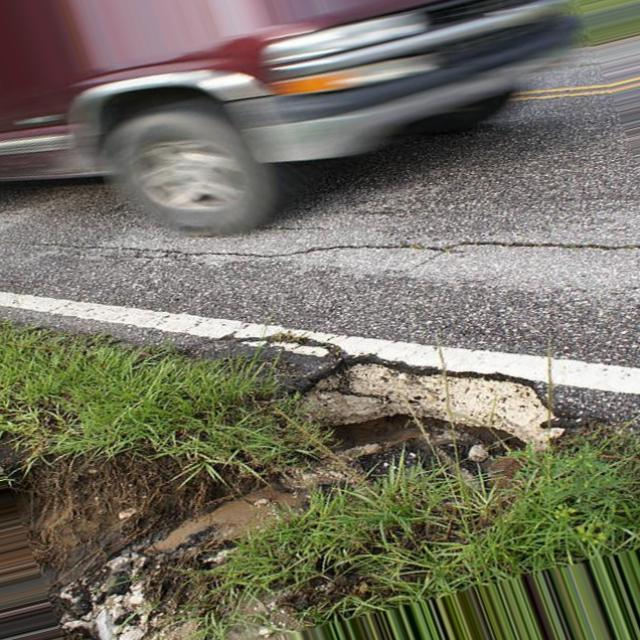Pinggir: (211, 333, 573, 553)
